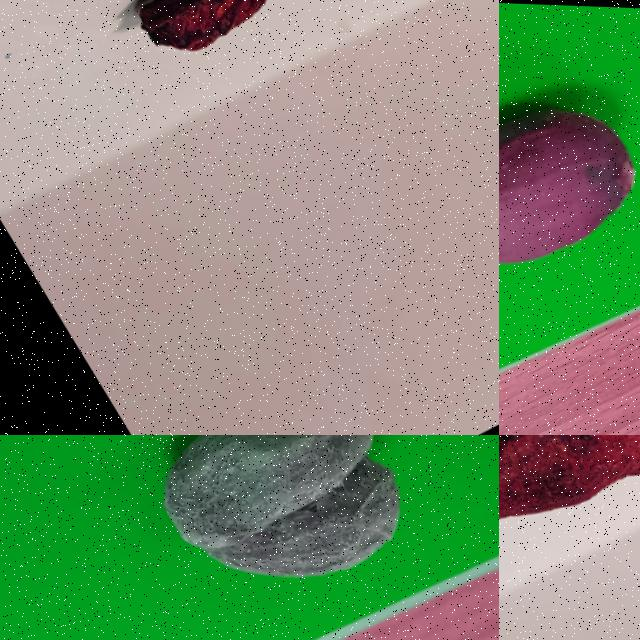Agglomerated_cocoabeans: (63, 435, 498, 639)
Fine_cocoabeans: (499, 0, 639, 377)
Flat_cocoabeans: (0, 0, 402, 165), (499, 435, 639, 639)
